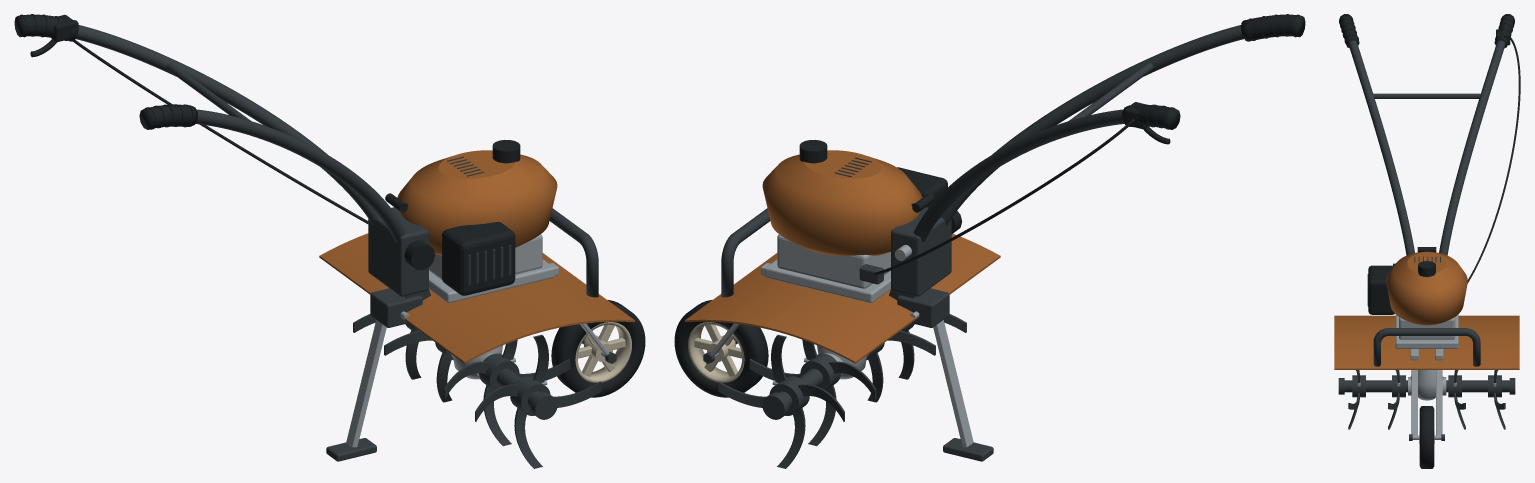
3 renders of one model, left to right at view 1: azimuth 30°, elevation 25°; view 2: azimuth 150°, elevation 25°; view 3: azimuth 270°, elevation 25°, orthographic. The views are drawn at different scales.
Visible parts, largest first — view 1: Curved full width tine fender, Rounded engine cowl, Dark side air filter housing, Rising tubular handlebar 1, Rising tubular handlebar -1, Handle folding hinge block, Transport rubber tire, Rear depth bar, Rear depth bar clamp, Engine base plate, Forward carry bumper loop, Textured handgrip -1 (+10 smaller); view 2: Rounded engine cowl, Curved full width tine fender, Rising tubular handlebar -1, Rising tubular handlebar 1, Handle folding hinge block, Transport rubber tire, Generic lower engine block, Engine base plate, Rear depth bar, Rear depth bar clamp, Forward carry bumper loop, Textured handgrip -1 (+9 smaller); view 3: Curved full width tine fender, Rounded engine cowl, Rising tubular handlebar 1, Rising tubular handlebar -1, Forward carry bumper loop, Dark side air filter housing, Transport rubber tire, Transverse tine axle, Engine base plate, External control cable, Handlebar transverse brace, Central cast gearbox (+10 smaller).
Boxes of the visible parts, x1,y1,x2,y2 form: Curved full width tine fender: [319, 233, 634, 363]; Rounded engine cowl: [397, 150, 557, 255]; Dark side air filter housing: [442, 221, 515, 295]; Rising tubular handlebar 1: [75, 25, 379, 225]; Rising tubular handlebar -1: [195, 109, 406, 241]; Handle folding hinge block: [368, 207, 428, 296]; Transport rubber tire: [551, 300, 645, 397]; Rear depth bar: [346, 320, 386, 447]; Rear depth bar clamp: [370, 288, 422, 327]; Engine base plate: [429, 259, 554, 302]; Forward carry bumper loop: [549, 208, 598, 297]; Textured handgrip -1: [139, 104, 197, 129]; Rounded engine cowl: [762, 150, 922, 255]; Curved full width tine fender: [685, 233, 1000, 363]; Rising tubular handlebar -1: [940, 25, 1244, 225]; Rising tubular handlebar 1: [913, 109, 1124, 241]; Handle folding hinge block: [891, 207, 951, 296]; Transport rubber tire: [674, 300, 768, 397]; Generic lower engine block: [777, 234, 890, 288]; Engine base plate: [765, 259, 890, 302]; Rear depth bar: [933, 320, 973, 447]; Rear depth bar clamp: [897, 288, 949, 327]; Forward carry bumper loop: [721, 208, 770, 297]; Textured handgrip -1: [1241, 14, 1305, 41]; Curved full width tine fender: [1334, 315, 1519, 369]; Rounded engine cowl: [1386, 251, 1467, 325]; Rising tubular handlebar 1: [1439, 40, 1505, 255]; Rising tubular handlebar -1: [1348, 40, 1414, 255]; Forward carry bumper loop: [1373, 328, 1480, 366]; Dark side air filter housing: [1368, 265, 1394, 314]; Transport rubber tire: [1419, 406, 1434, 468]; Transverse tine axle: [1344, 380, 1509, 392]; Engine base plate: [1395, 314, 1458, 348]; External control cable: [1467, 37, 1520, 283]; Handlebar transverse brace: [1373, 93, 1480, 98]; Central cast gearbox: [1410, 370, 1443, 400].
Bounding box in the file's own units: 125 × 97.17 × 56.28.
